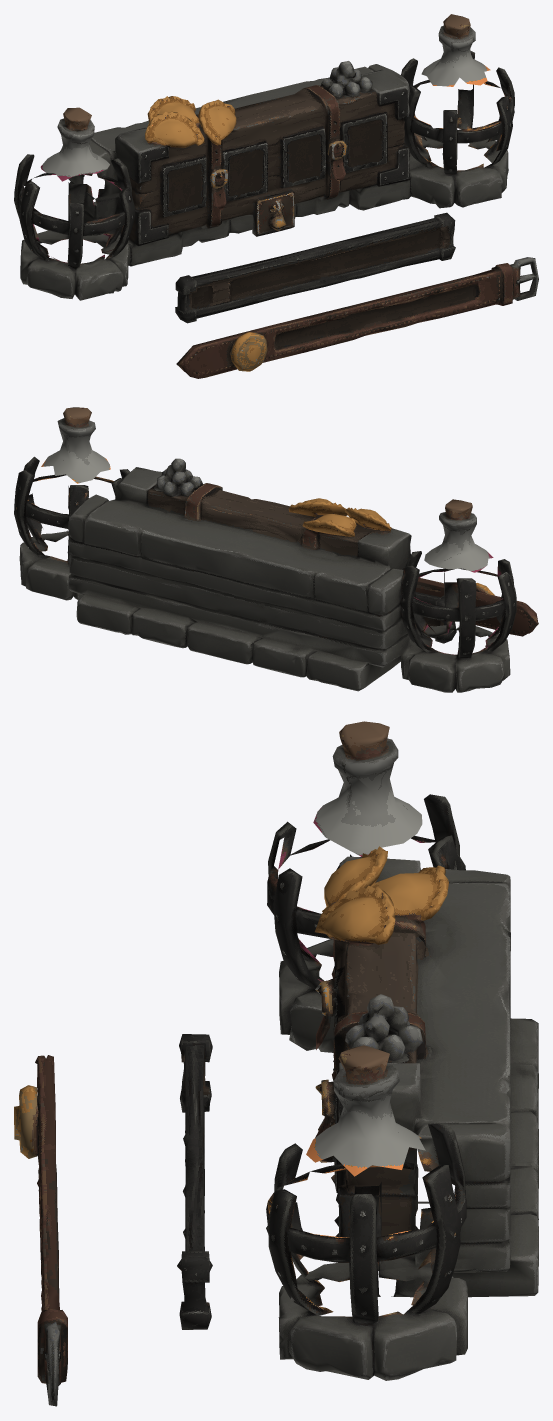
File: hud_cabral.glb
3 views of the same model, one above another, from view 1: azimuth 30°, elevation 25°; view 2: azimuth 150°, elevation 25°; view 3: azimuth 270°, elevation 25° (orthographic). The views are drawn at different scales.
Visible parts, largest first — view 1: tripo_node_6f1dac14-2b81-4a30-9206-75811f3b9396; view 2: tripo_node_6f1dac14-2b81-4a30-9206-75811f3b9396; view 3: tripo_node_6f1dac14-2b81-4a30-9206-75811f3b9396.
Part boxes in pixels (x1,y1,x2,y2): tripo_node_6f1dac14-2b81-4a30-9206-75811f3b9396: (14, 14, 538, 378); tripo_node_6f1dac14-2b81-4a30-9206-75811f3b9396: (14, 407, 538, 692); tripo_node_6f1dac14-2b81-4a30-9206-75811f3b9396: (14, 721, 538, 1406).
Size of the model in its own units: 2.46 by 1 by 1.3.
1 material, 1 textured.
